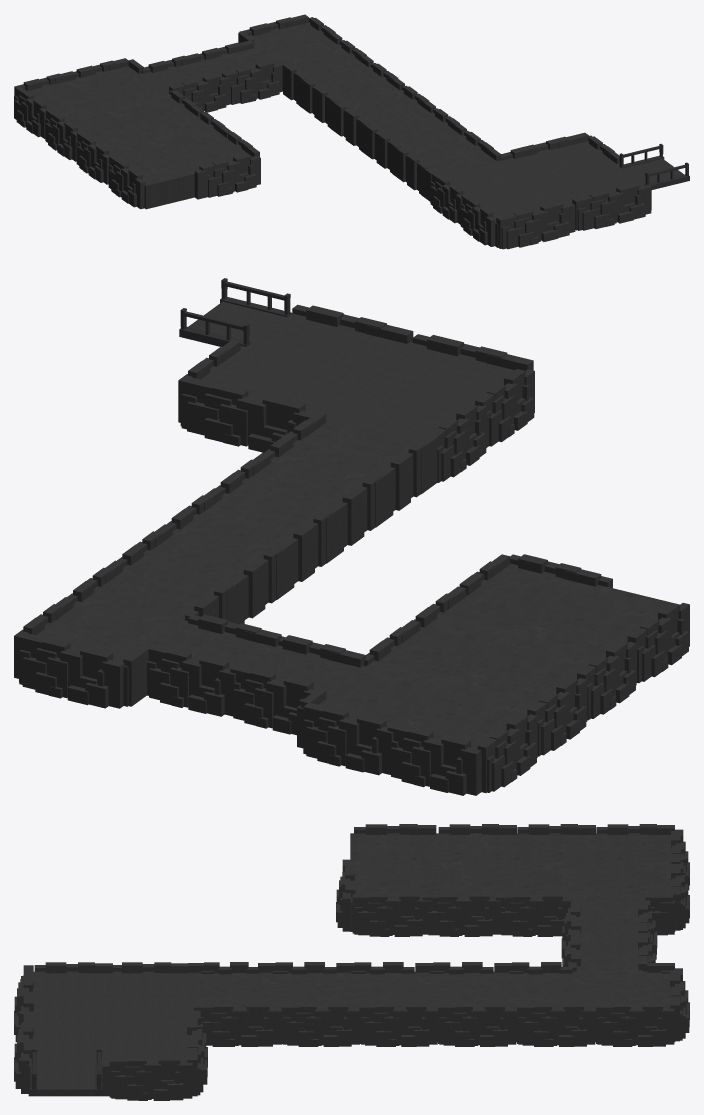
The model's file is stage1_1.FBX.
3 renders of one model, top to bottom at view 1: azimuth 30°, elevation 25°; view 2: azimuth 150°, elevation 25°; view 3: azimuth 270°, elevation 25°, orthographic. The views are drawn at different scales.
Parts seen in each view (by area): view 1: Box441, Box1214, Box2236, Box983, Bridge_2, Box2494, Box2479, Box2509, Box2524, Box2496, Box2526, Box459 (+2 smaller); view 2: Box441, Box1214, Box2236, Box983, Bridge_2, Box2445, Box2526, Box2481, Box2524, Box2479, Box2706, Box2496 (+6 smaller); view 3: Box441, Box2236, Box1214, Box983, Bridge_2, Box2661, Box2662, Box2557, Box2617, Box2587, Box2602.
Part boxes in pixels (left/top/right/bottom): Box441: left=26, top=66, right=251, bottom=209; Box1214: left=249, top=22, right=498, bottom=175; Box2236: left=441, top=141, right=683, bottom=247; Box983: left=143, top=46, right=277, bottom=92; Bridge_2: left=619, top=143, right=689, bottom=189; Box2494: left=361, top=123, right=377, bottom=159; Box2479: left=330, top=100, right=346, bottom=136; Box2509: left=299, top=77, right=314, bottom=113; Box2524: left=392, top=146, right=408, bottom=182; Box2496: left=345, top=109, right=359, bottom=145; Box2526: left=376, top=132, right=390, bottom=168; Box459: left=194, top=169, right=207, bottom=199; Box441: left=319, top=563, right=671, bottom=791; Box1214: left=36, top=420, right=417, bottom=662; Box2236: left=188, top=301, right=514, bottom=443; Box983: left=158, top=623, right=365, bottom=694; Bridge_2: left=179, top=278, right=291, bottom=346; Box2445: left=123, top=647, right=148, bottom=706; Box2526: left=342, top=488, right=364, bottom=545; Box2481: left=243, top=560, right=265, bottom=618; Box2524: left=375, top=467, right=393, bottom=527; Box2479: left=276, top=540, right=294, bottom=599; Box2706: left=262, top=395, right=305, bottom=429; Box2496: left=293, top=524, right=314, bottom=581; Box441: left=350, top=833, right=675, bottom=931; Box2236: left=28, top=971, right=192, bottom=1096; Box1214: left=188, top=971, right=675, bottom=1042; Box983: left=576, top=902, right=642, bottom=971; Bridge_2: left=30, top=1048, right=102, bottom=1095; Box2661: left=246, top=1003, right=269, bottom=1028; Box2662: left=267, top=1008, right=282, bottom=1044; Box2557: left=178, top=1062, right=192, bottom=1098; Box2617: left=660, top=1008, right=674, bottom=1044; Box2587: left=581, top=1008, right=595, bottom=1044; Box2602: left=502, top=1008, right=516, bottom=1044.
Size of the model in its own units: 3014 by 3286 by 245.
2 materials, 2 textured.
